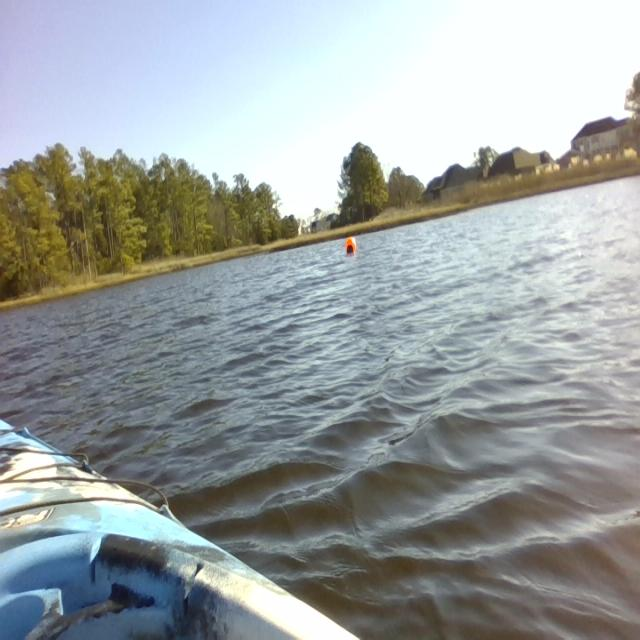Buoy: (336, 227, 363, 263)
